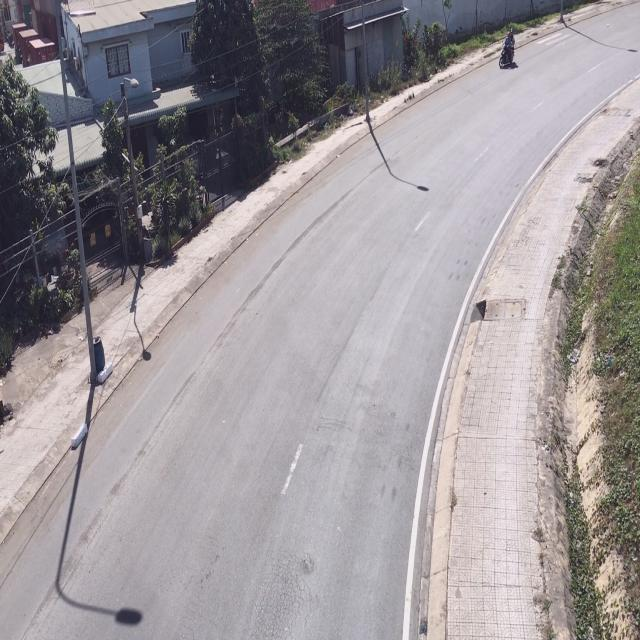motorbike: (498, 29, 516, 72)
